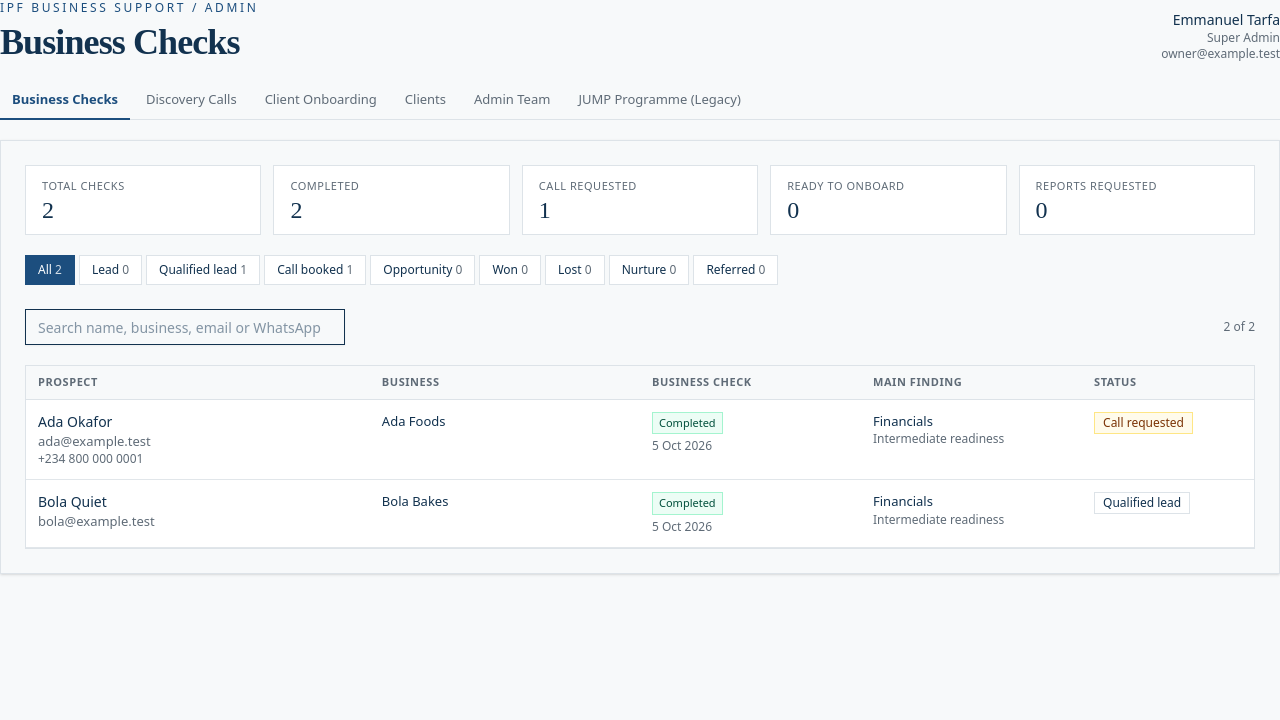
Business Checks table › searches and filters, and keeps them when a record is opened and closed
This screenshot has width=1280, height=720.
Type "bola" into the field named "Search business checks".
click(185, 327); type("bola")  # box [25,309,345,345]
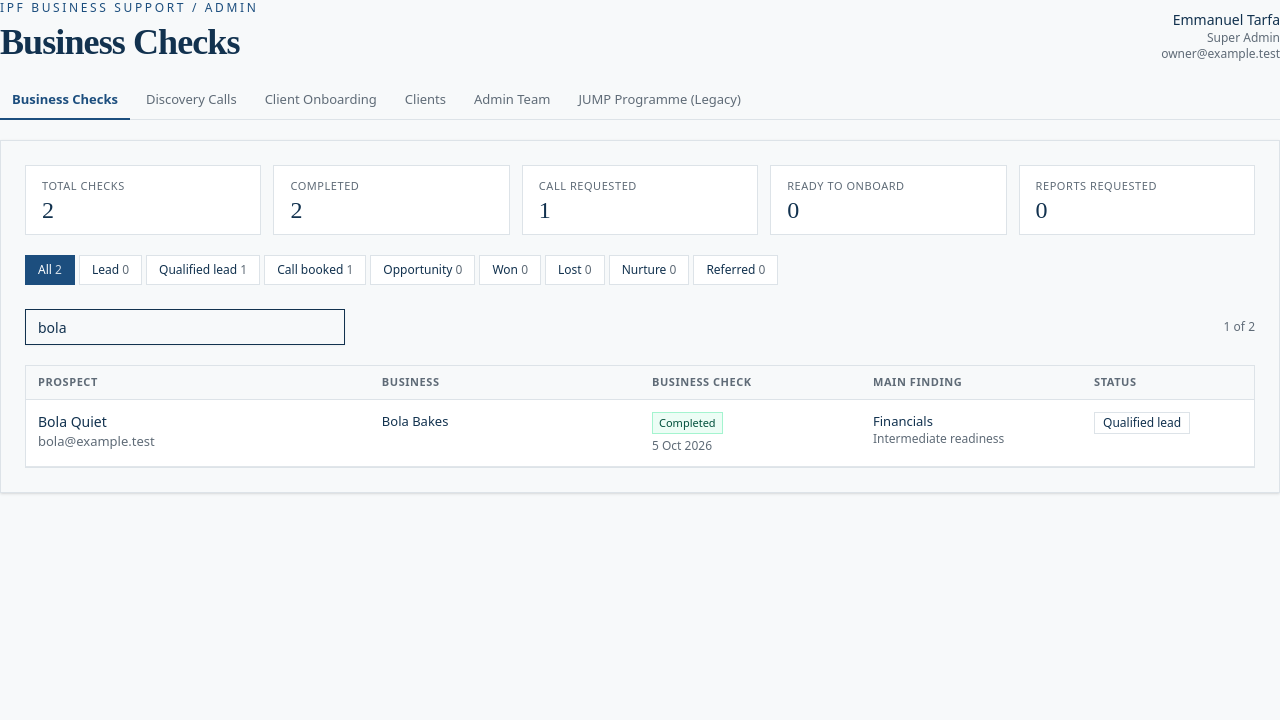
Check: the text "Bola Quiet" is shown, box [38,412,107,430]
Check: the button "Ada Okafor" is gone
Clear the field named "Search business checks" at [185, 327], box [25,309,345,345]
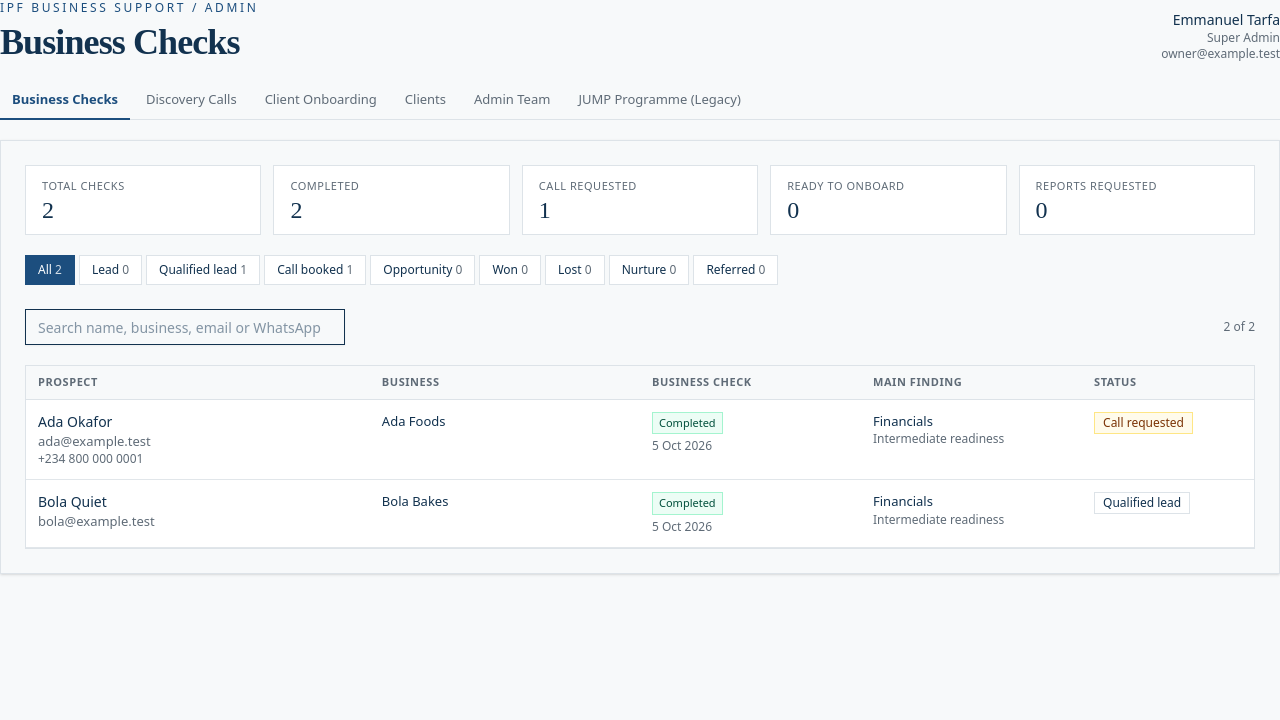
Click the tab "Call booked 1".
click(315, 270)  # box [264,255,366,285]
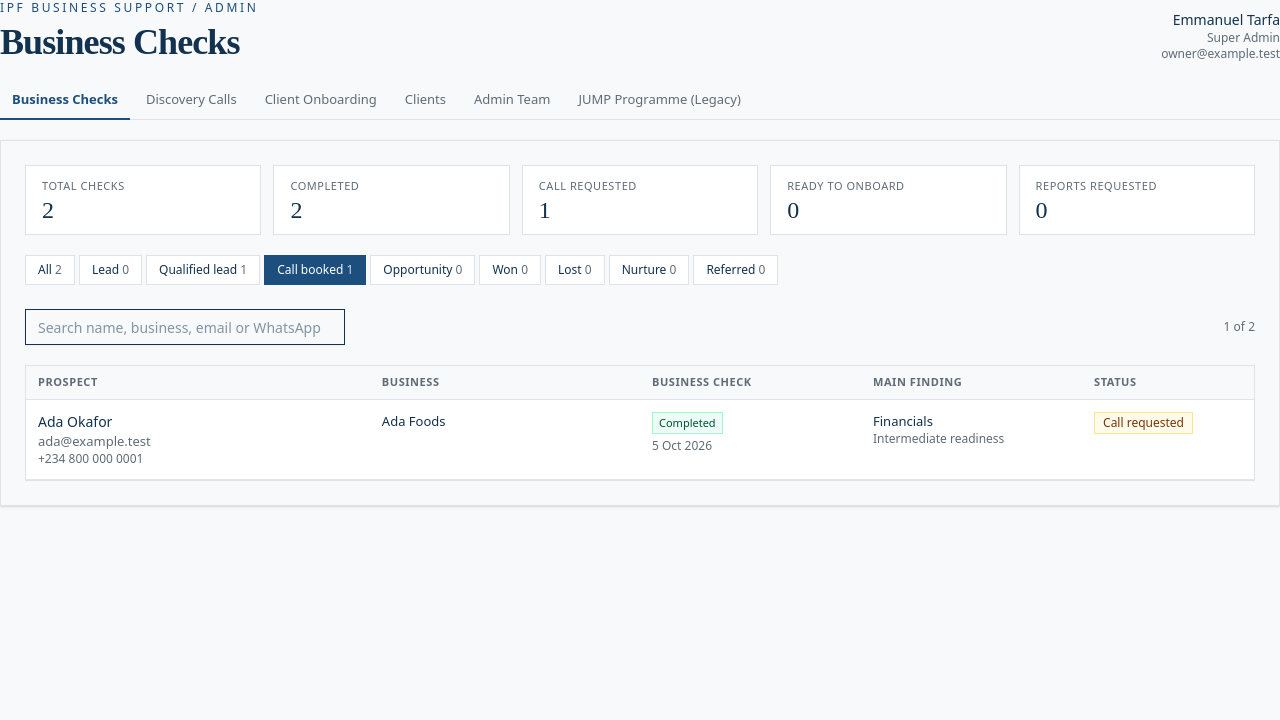
Check: the button "Bola Quiet" is gone
Click the tab "Qualified lead 1".
click(203, 270)  # box [146,255,260,285]
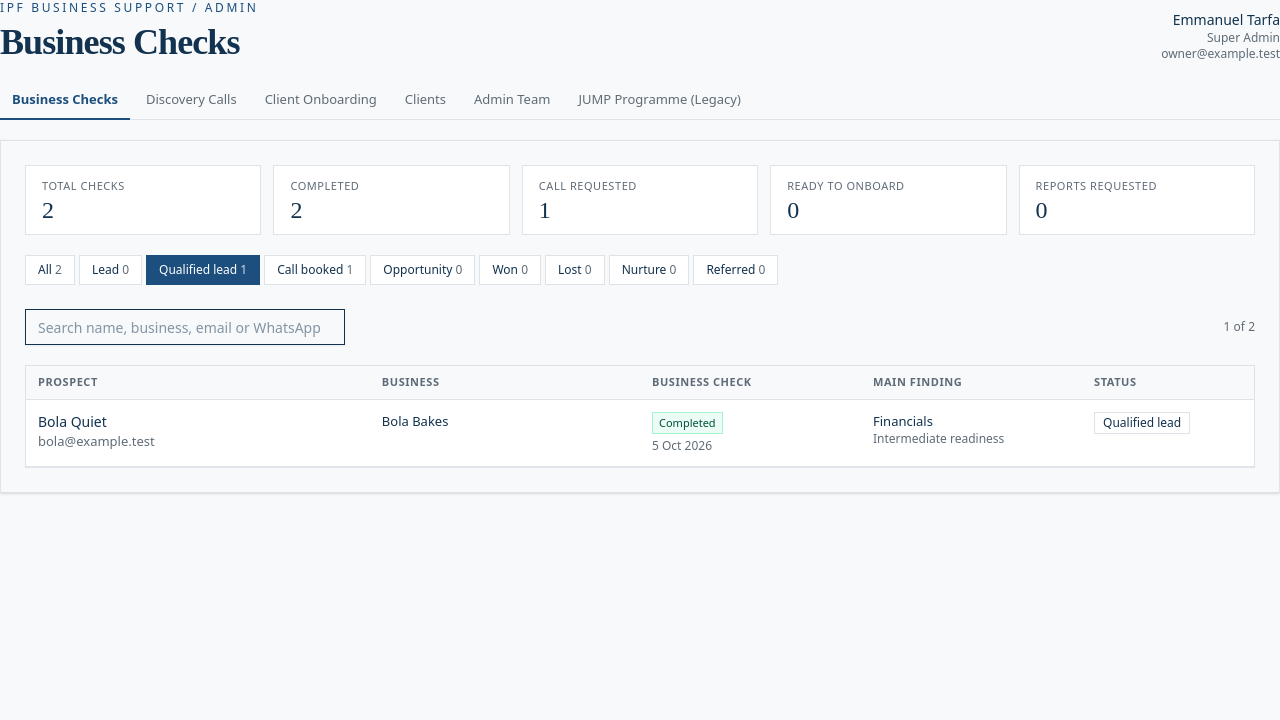
Check: the button "Ada Okafor" is gone
Check: the text "Bola Quiet" is shown, box [38,412,107,430]
Click the text "Bola Quiet".
click(640, 433)  # box [26,399,1254,466]
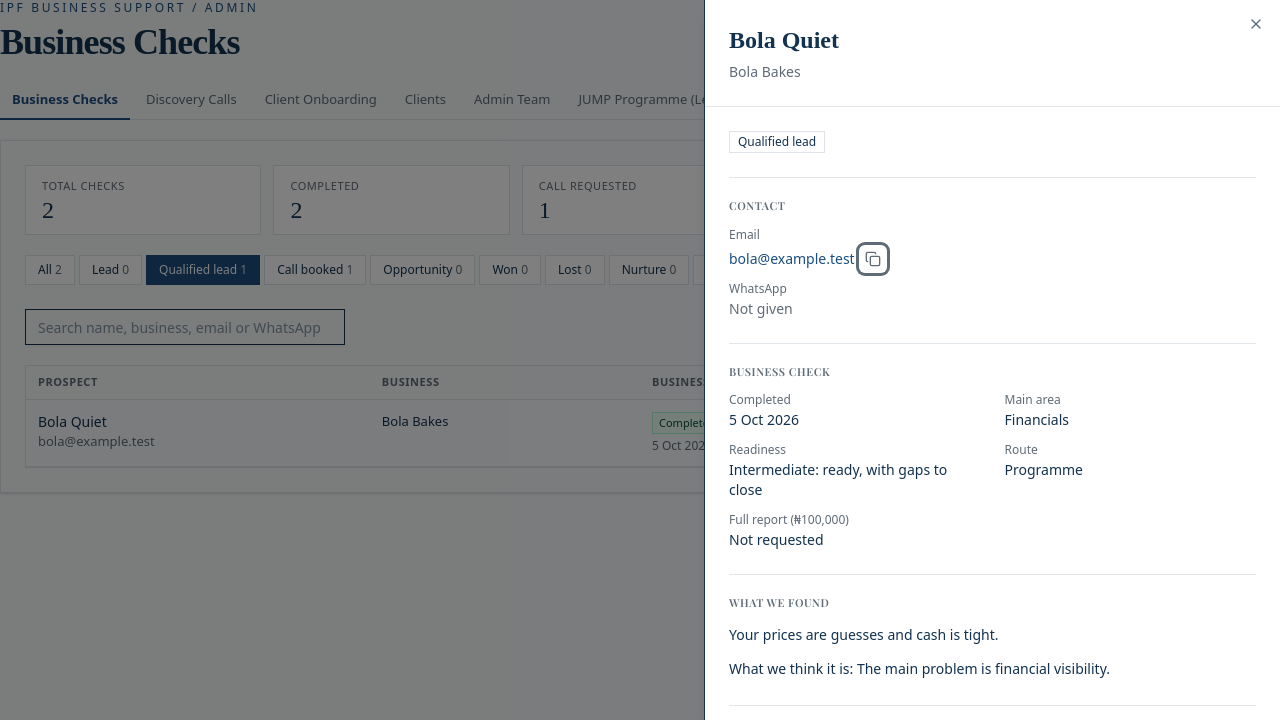
Check: the dialog is shown
Press Escape in the dialog, box [704,0,1279,719]
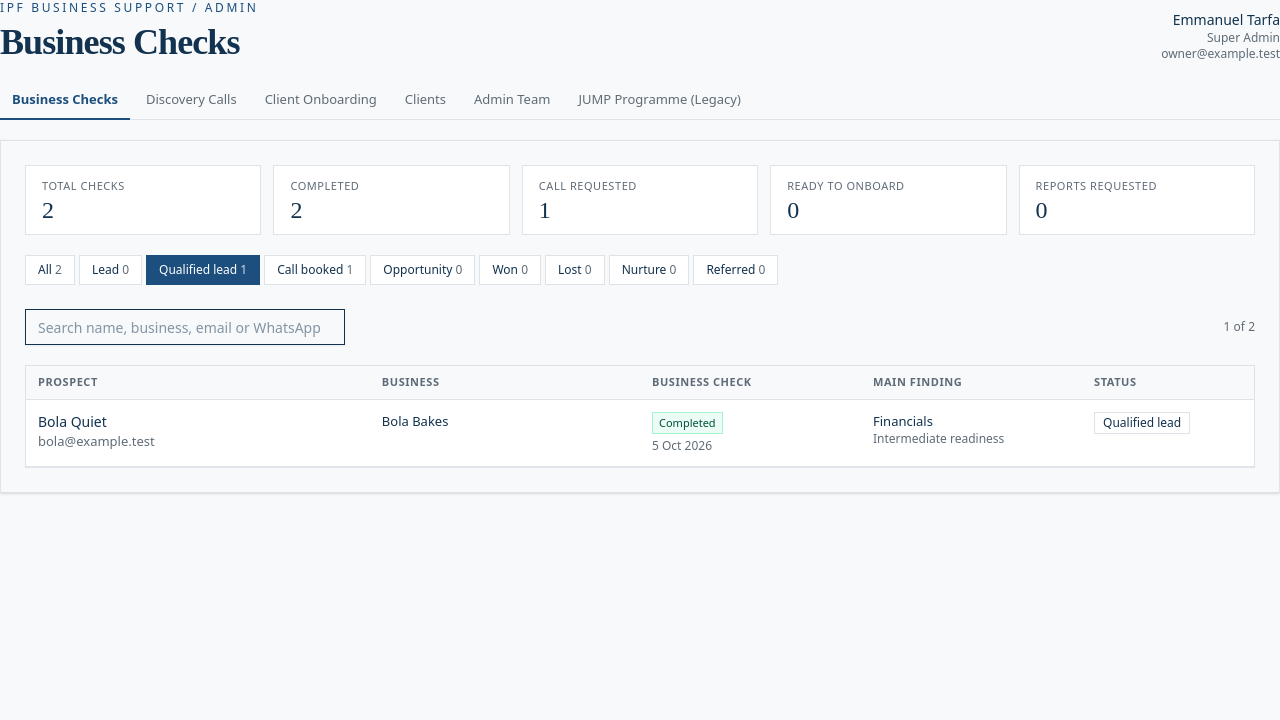
Check: the button "Ada Okafor" is not shown
Check: the text "Bola Quiet" is shown, box [38,412,107,430]
Check: the dialog is gone
